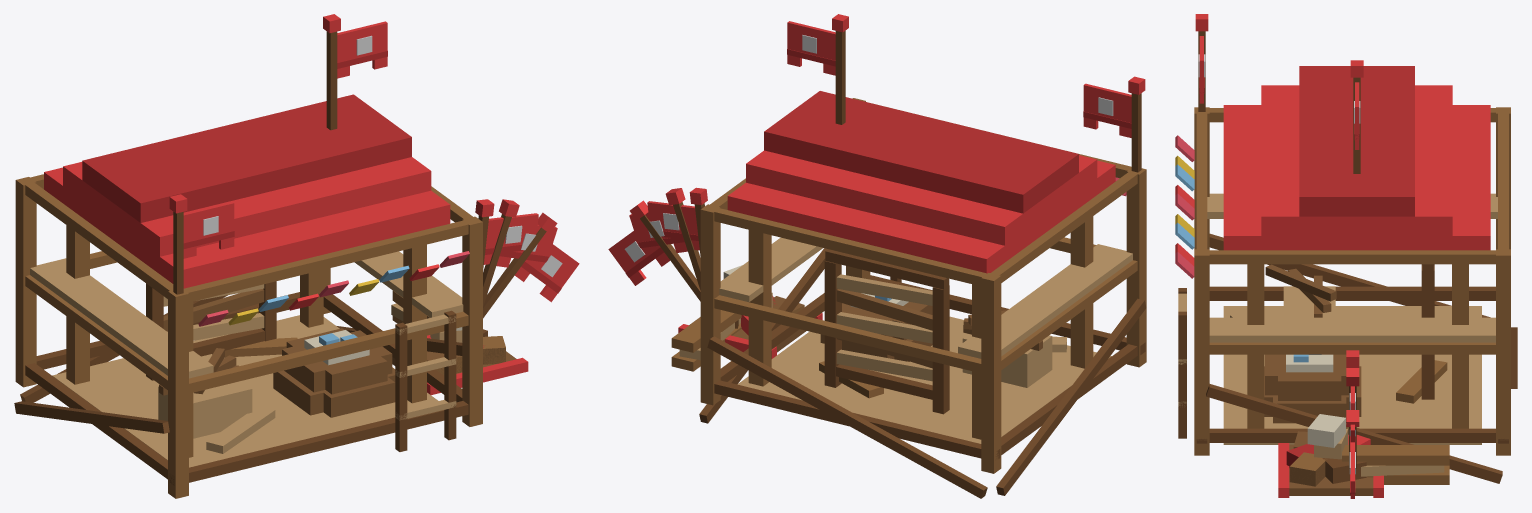
The model's file is robin-research.glb.
3 renders of one model, left to right at view 1: azimuth 30°, elevation 25°; view 2: azimuth 150°, elevation 25°; view 3: azimuth 270°, elevation 25°, orthographic. The views are drawn at different scales.
Parts seen in each view (by area): view 1: scaffold-mesh, built-mesh, dismantle-50-mesh, dismantle-75-mesh, dismantle-25-mesh, scaffold-banner, banner, dismantle-25-banner, flag-pole, dismantle-75-banner, scaffold-flag-pole, dismantle-25-flag-pole (+2 smaller); view 2: scaffold-mesh, built-mesh, dismantle-50-mesh, dismantle-75-mesh, scaffold-banner, banner, dismantle-25-banner, dismantle-75-banner, dismantle-25-mesh, flag-pole, dismantle-50-banner, scaffold-flag-pole (+2 smaller); view 3: scaffold-mesh, built-mesh, dismantle-50-mesh, dismantle-25-mesh, dismantle-75-mesh, flag-pole, scaffold-flag-pole, scaffold-banner, banner.
Boxes of the visible parts, left/top/right/bottom form: scaffold-mesh: left=14, top=174, right=482, bottom=498; built-mesh: left=44, top=94, right=450, bottom=417; dismantle-50-mesh: left=52, top=274, right=528, bottom=467; dismantle-75-mesh: left=66, top=225, right=528, bottom=438; dismantle-25-mesh: left=146, top=289, right=528, bottom=453; scaffold-banner: left=183, top=201, right=234, bottom=258; banner: left=337, top=21, right=387, bottom=78; dismantle-25-banner: left=515, top=244, right=579, bottom=302; flag-pole: left=323, top=14, right=340, bottom=130; dismantle-75-banner: left=484, top=213, right=538, bottom=264; scaffold-flag-pole: left=169, top=194, right=187, bottom=294; dismantle-25-flag-pole: left=483, top=212, right=557, bottom=318; scaffold-mesh: left=671, top=98, right=1146, bottom=498; built-mesh: left=727, top=91, right=1115, bottom=414; dismantle-50-mesh: left=678, top=267, right=1111, bottom=443; dismantle-75-mesh: left=678, top=231, right=1093, bottom=439; scaffold-banner: left=1083, top=83, right=1131, bottom=137; banner: left=787, top=21, right=835, bottom=75; dismantle-25-banner: left=608, top=226, right=669, bottom=285; dismantle-75-banner: left=647, top=201, right=699, bottom=250; dismantle-25-mesh: left=681, top=265, right=1072, bottom=437; flag-pole: left=832, top=14, right=848, bottom=124; dismantle-50-banner: left=629, top=209, right=687, bottom=257; scaffold-flag-pole: left=1128, top=76, right=1145, bottom=172; scaffold-mesh: left=1175, top=107, right=1517, bottom=484; built-mesh: left=1223, top=66, right=1490, bottom=395; dismantle-50-mesh: left=1223, top=264, right=1481, bottom=497; dismantle-25-mesh: left=1230, top=311, right=1447, bottom=494; dismantle-75-mesh: left=1278, top=264, right=1434, bottom=497; flag-pole: left=1350, top=60, right=1363, bottom=173; scaffold-flag-pole: left=1195, top=14, right=1208, bottom=111; scaffold-banner: left=1198, top=36, right=1205, bottom=103; banner: left=1354, top=82, right=1360, bottom=149.
Size of the model in its own units: 2.59 by 1.97 by 1.59.
